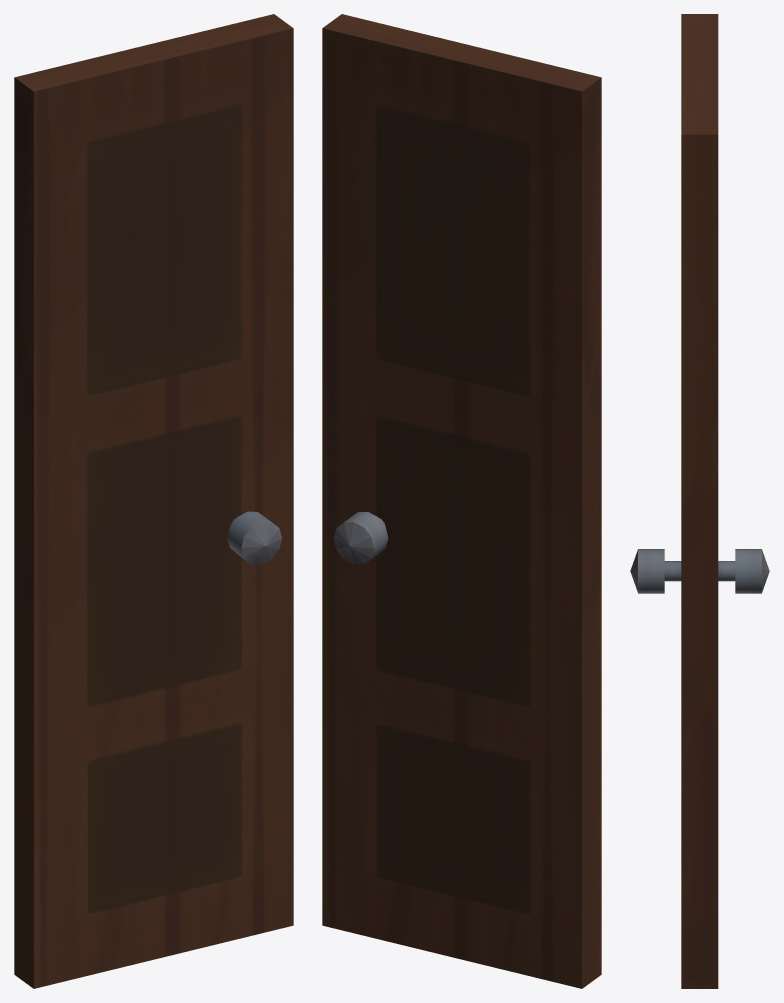
File: Door.fbx
The picture shows the model from 3 angles, left to right: view 1: azimuth 30°, elevation 25°; view 2: azimuth 150°, elevation 25°; view 3: azimuth 270°, elevation 25°; orthographic projection. The views are drawn at different scales.
Visible parts, largest first — view 1: Door; view 2: Door; view 3: Door.
Boxes of the visible parts, left/top/right/bottom form: Door: left=14, top=14, right=293, bottom=988; Door: left=322, top=14, right=601, bottom=988; Door: left=630, top=14, right=769, bottom=988.
Size of the model in its own units: 33.5 by 111 by 16.37.
